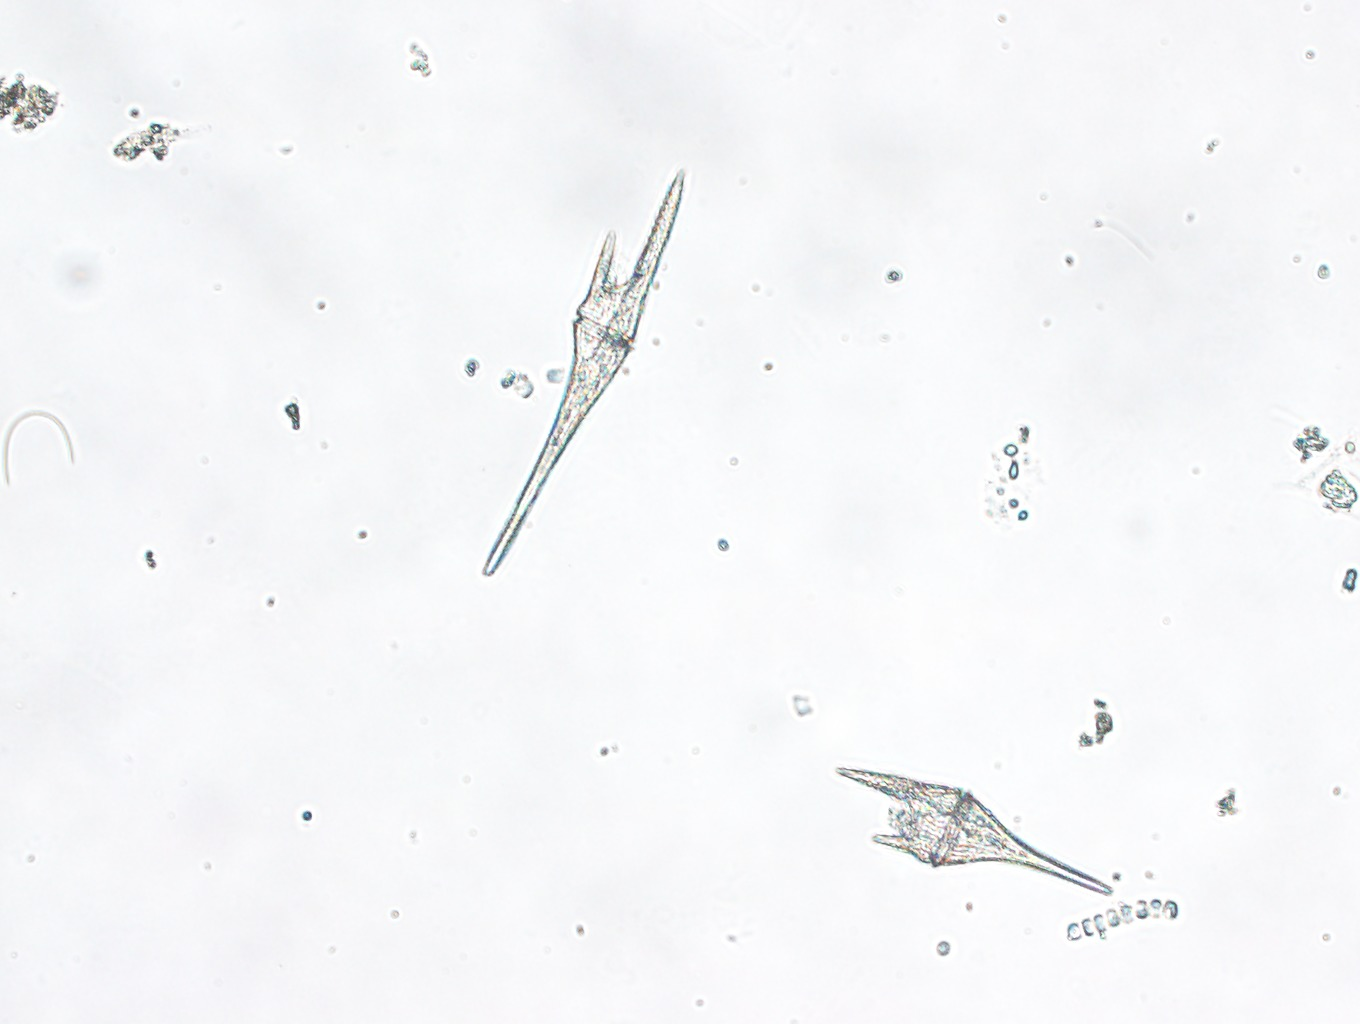ceratium furca: (479, 170, 686, 583), (831, 764, 1117, 899)
skeletonema: (1064, 896, 1182, 945)
